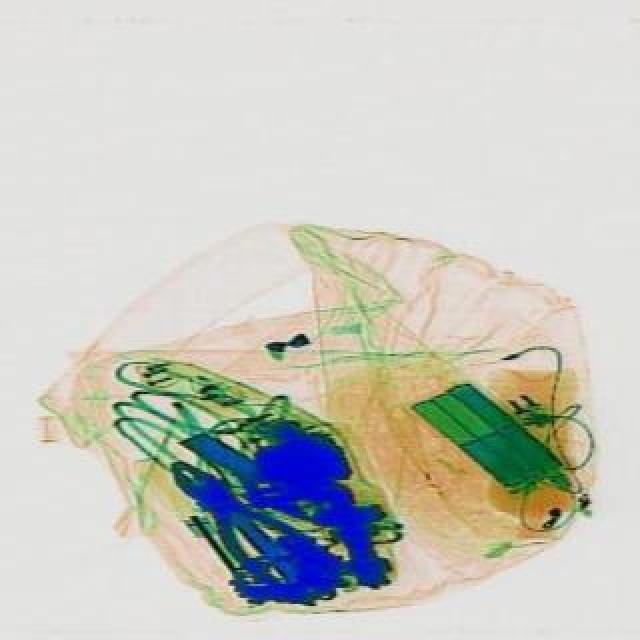wrench: (150, 442, 316, 590)
